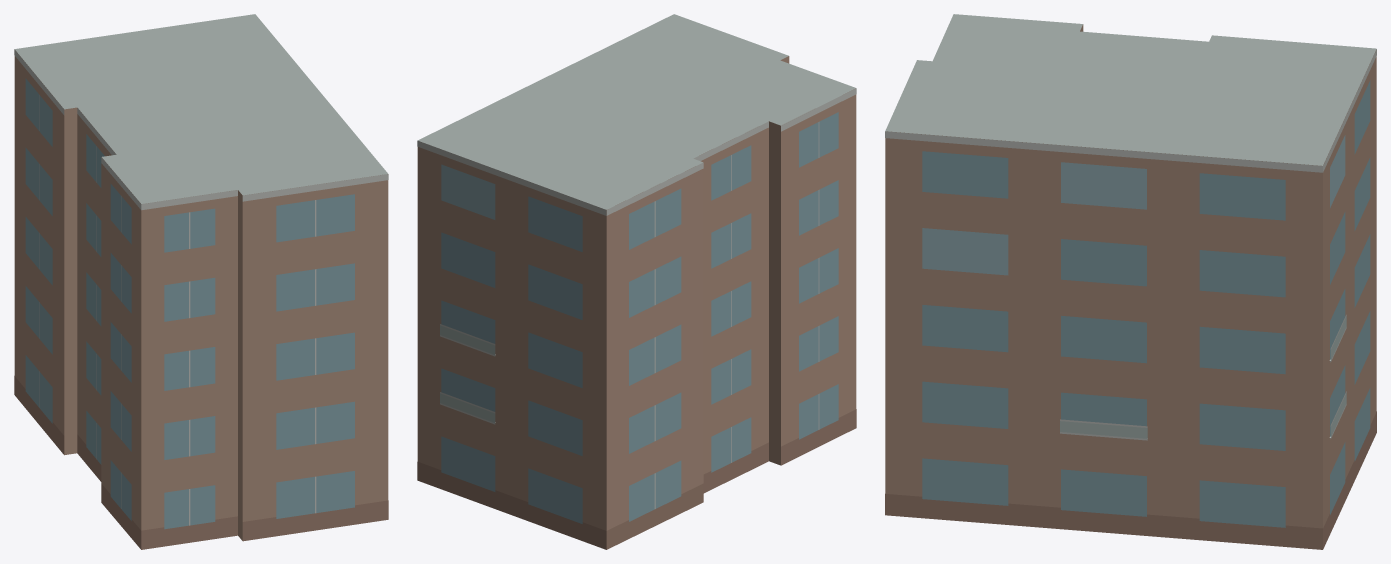
Rendered from survey-upis-32514996.glb.
3 views of the same model, side by side, from view 1: azimuth 30°, elevation 25°; view 2: azimuth 150°, elevation 25°; view 3: azimuth 270°, elevation 25° (orthographic). The views are drawn at different scales.
Parts seen in each view (by area): view 1: survey-upis-32514996.tmp; view 2: survey-upis-32514996.tmp; view 3: survey-upis-32514996.tmp.
Part boxes in pixels (x1,y1,x2,y2): survey-upis-32514996.tmp: (14,14,388,549); survey-upis-32514996.tmp: (417,14,856,549); survey-upis-32514996.tmp: (885,14,1376,549).
Size of the model in its own units: 11.54 by 13.6 by 15.79.
